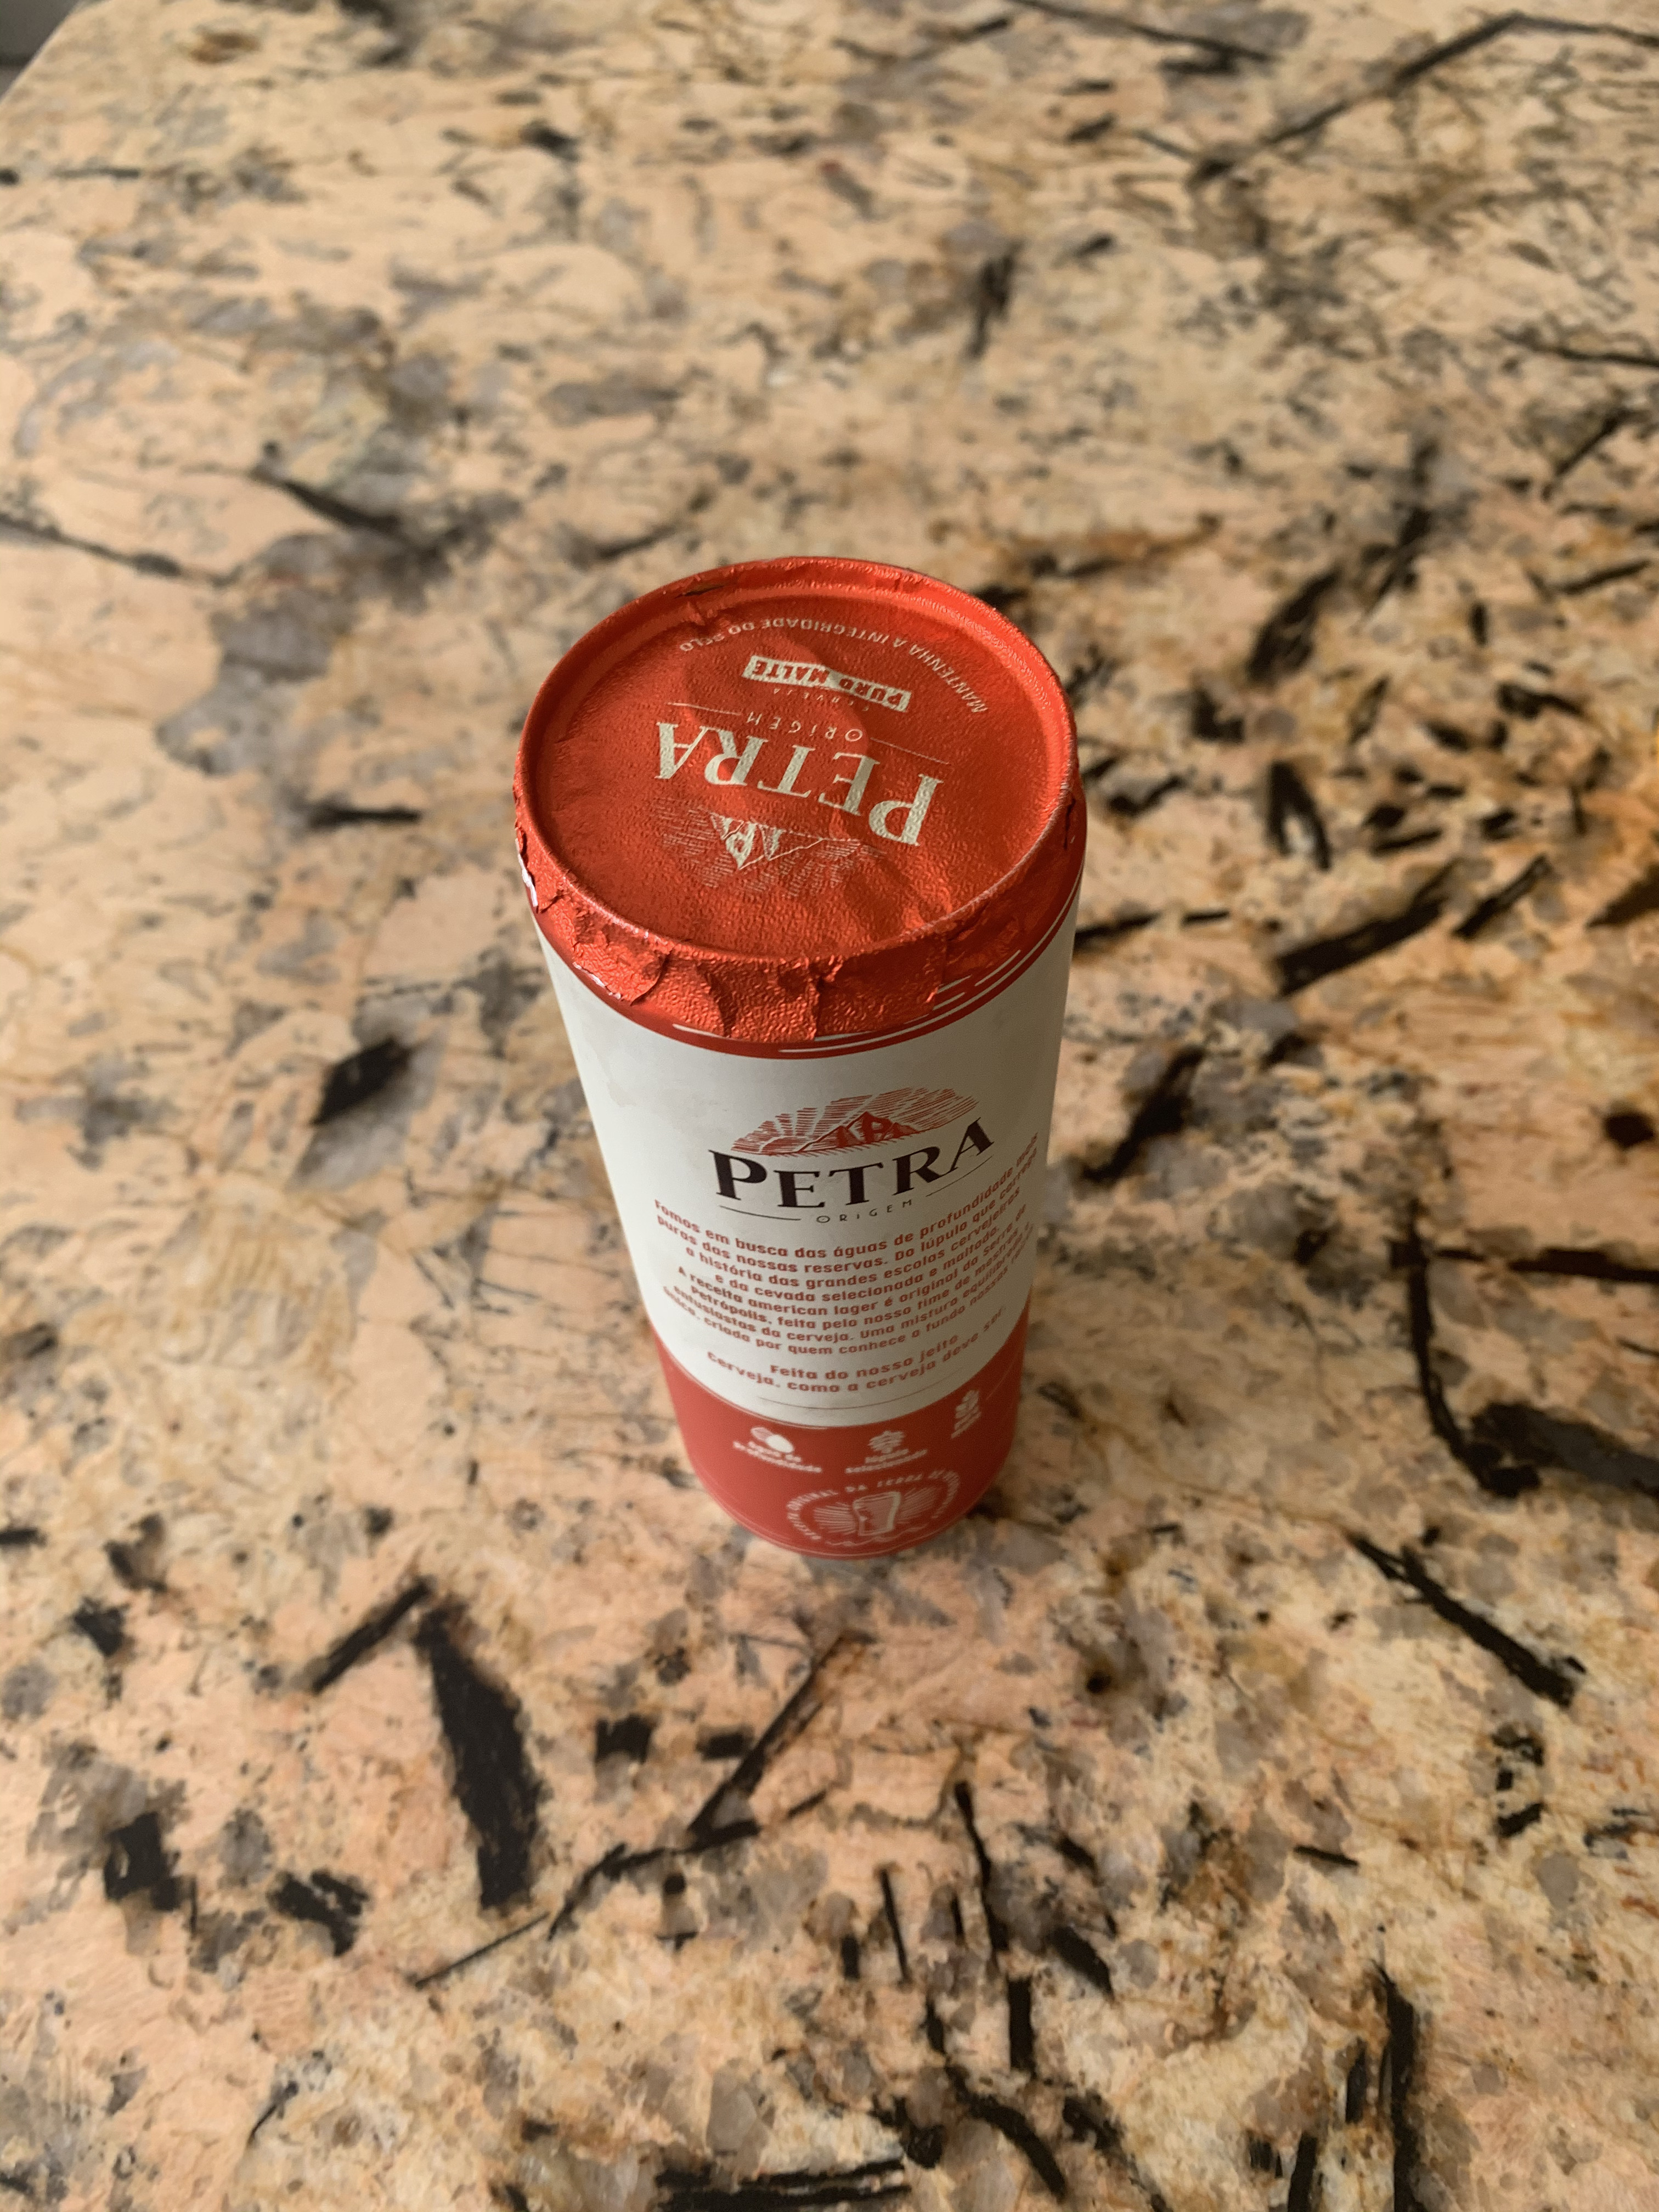petra: (436, 557, 1168, 1592)
